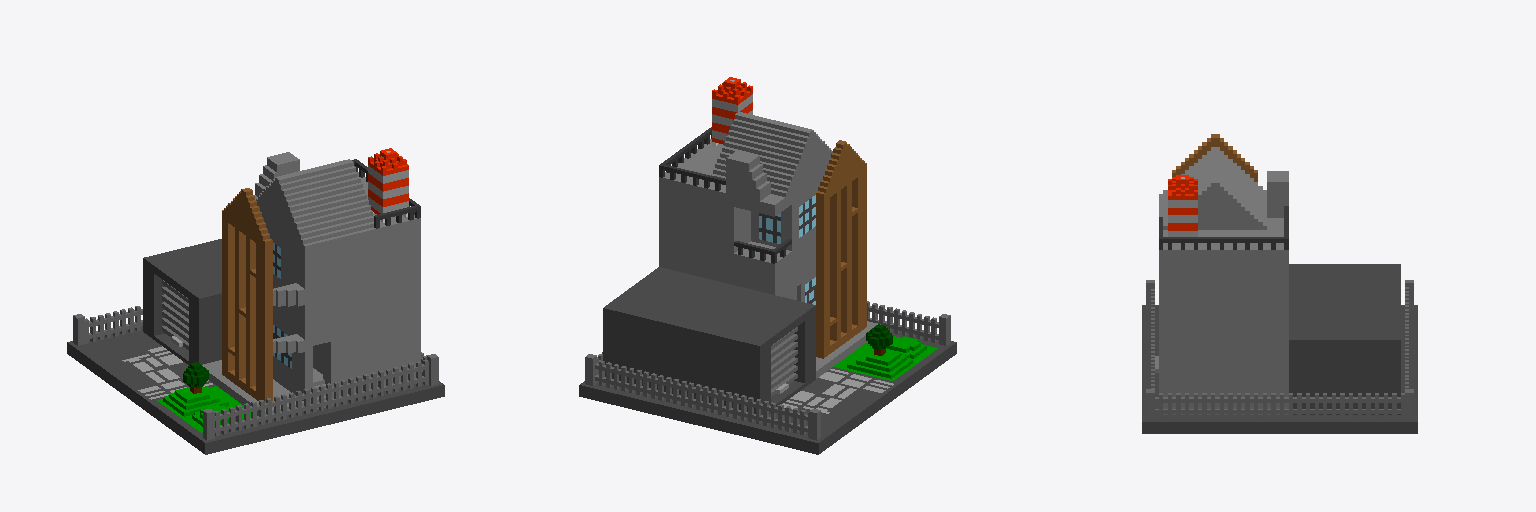
3 renders of one model, left to right at view 1: azimuth 30°, elevation 25°; view 2: azimuth 150°, elevation 25°; view 3: azimuth 270°, elevation 25°, orthographic.
Parts seen in each view (by area): view 1: object 1; view 2: object 1; view 3: object 1.
Part boxes in pixels (left/top/right/bottom): object 1: left=67, top=148, right=444, bottom=454; object 1: left=579, top=77, right=956, bottom=454; object 1: left=1142, top=134, right=1417, bottom=433.
Size of the model in its own units: 6.4 by 6.1 by 6.4.
1 materials, 1 textured.